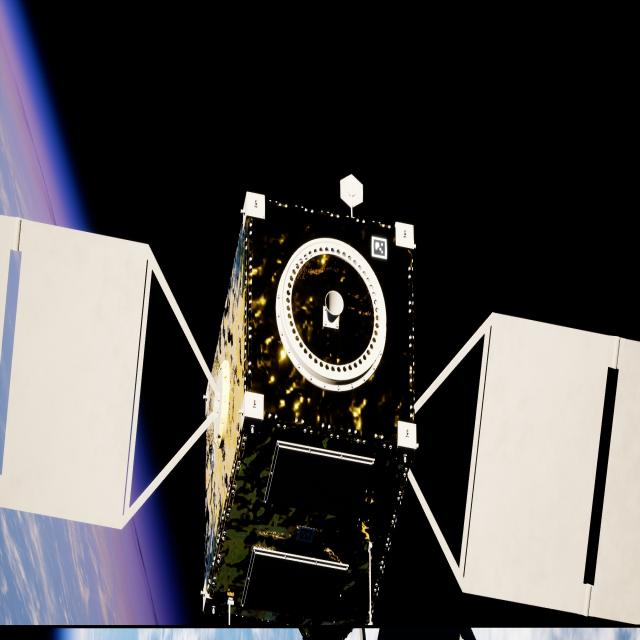satellite: (0, 192, 640, 629)
